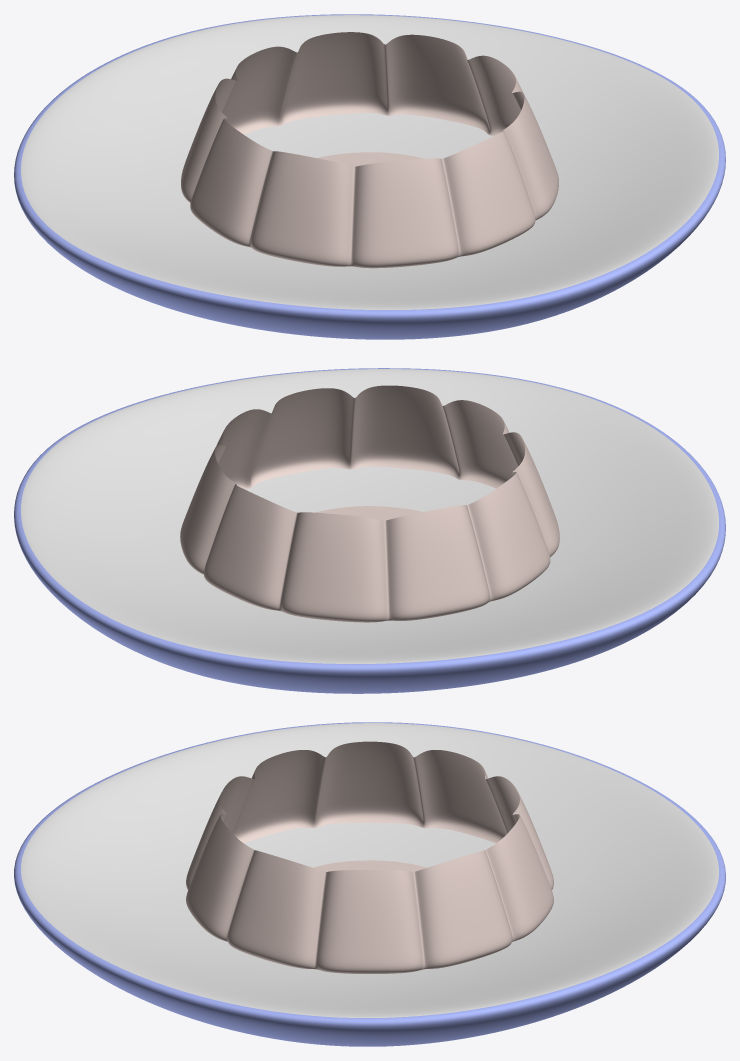
The model's file is jelly.gltf.
3 views of the same model, one above another, from view 1: azimuth 30°, elevation 25°; view 2: azimuth 150°, elevation 25°; view 3: azimuth 270°, elevation 25° (orthographic). The views are drawn at different scales.
Visible parts, largest first — view 1: Cylinder; view 2: Cylinder; view 3: Cylinder.
Boxes of the visible parts, box(x1,y1,x2,y2) form: Cylinder: box(14, 14, 725, 339); Cylinder: box(14, 368, 725, 693); Cylinder: box(14, 722, 725, 1046).
Size of what is drawn, in the model's own units: 5.13 by 1.02 by 5.13.
